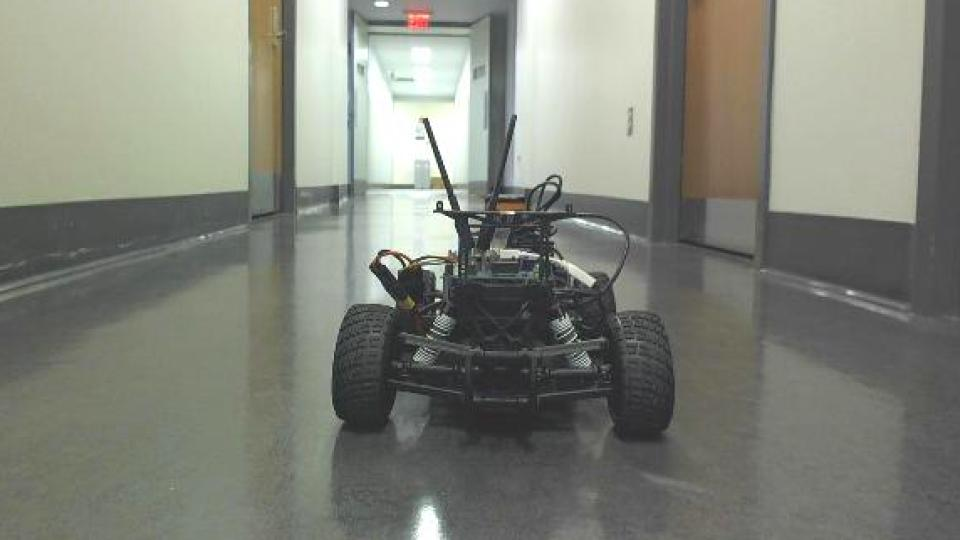car: (329, 112, 680, 442)
